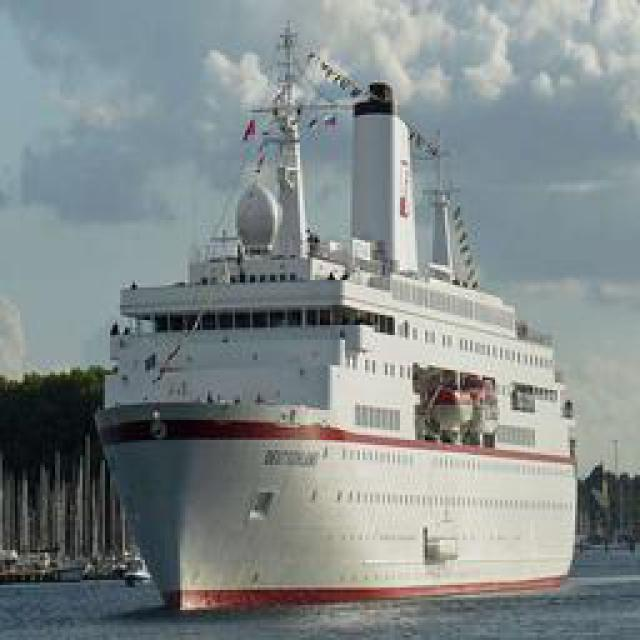Ship: (91, 21, 581, 629)
